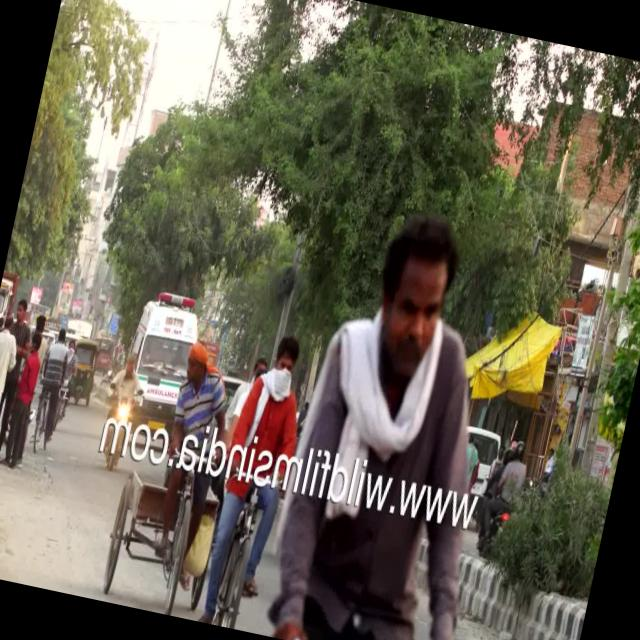ambulance: (126, 294, 198, 430)
